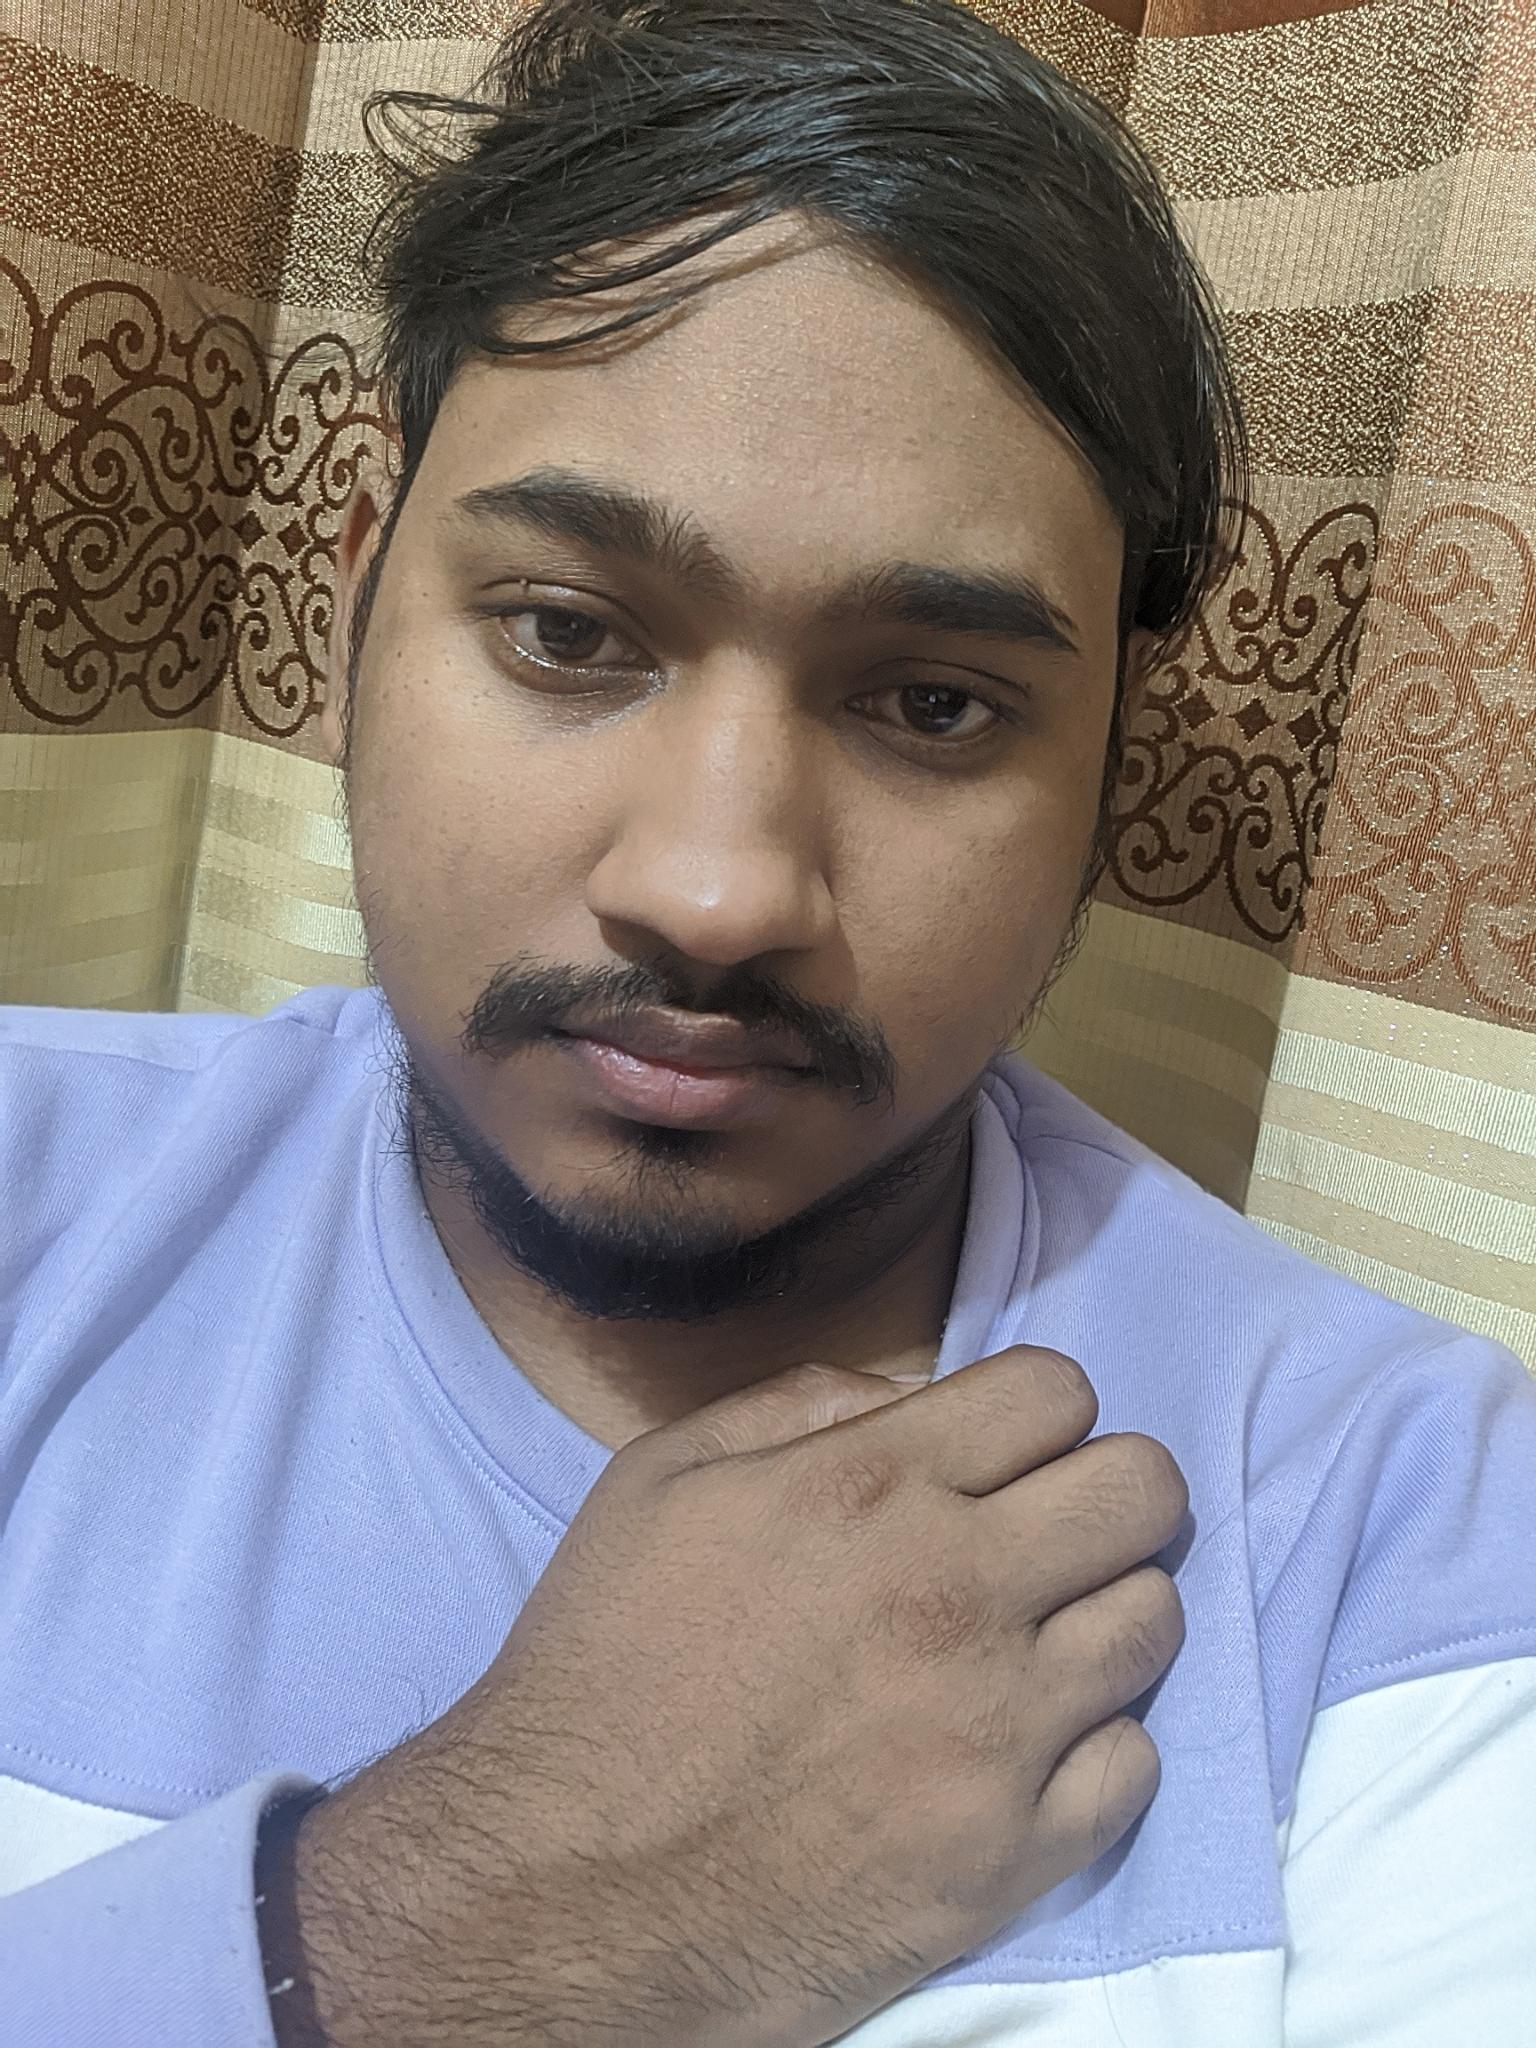Neutral: (369, 334, 1094, 1311)
